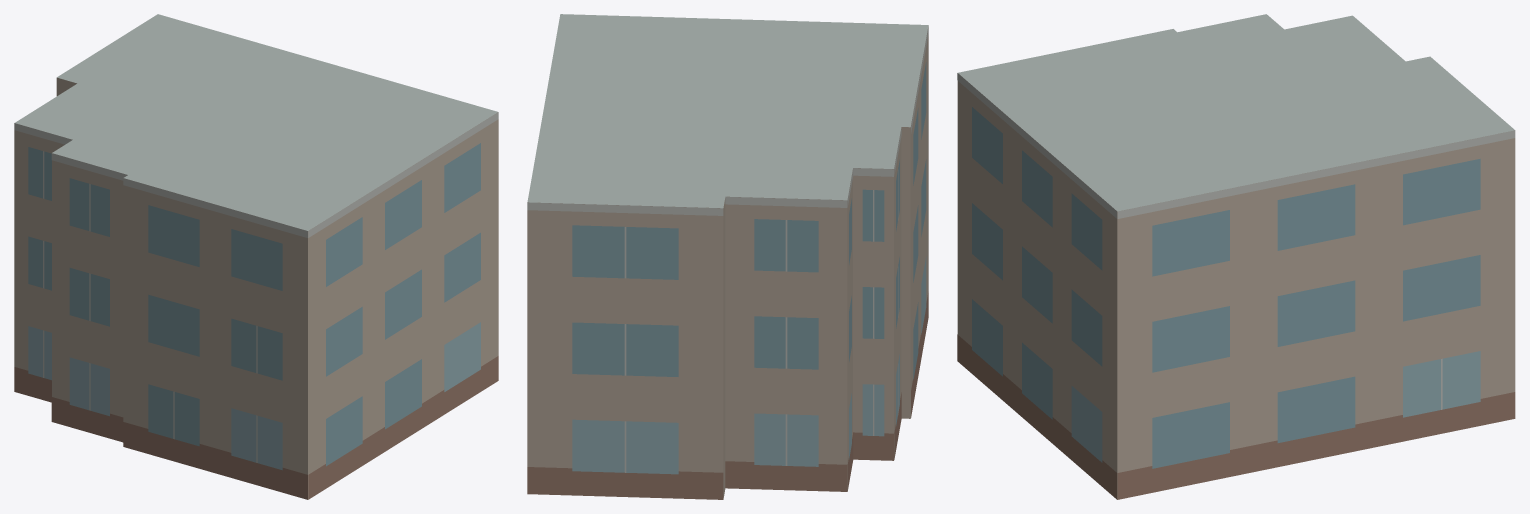
File: survey-upis-33040868.glb
3 views of the same model, side by side, from view 1: azimuth 30°, elevation 25°; view 2: azimuth 150°, elevation 25°; view 3: azimuth 270°, elevation 25° (orthographic). The views are drawn at different scales.
Visible parts, largest first — view 1: survey-upis-33040868.tmp; view 2: survey-upis-33040868.tmp; view 3: survey-upis-33040868.tmp.
Part boxes in pixels (x1=…): survey-upis-33040868.tmp: x1=14, y1=14, x2=498, y2=499; survey-upis-33040868.tmp: x1=527, y1=14, x2=928, y2=499; survey-upis-33040868.tmp: x1=957, y1=14, x2=1515, y2=499.
Size of the model in its own units: 13.45 by 9.15 by 16.05.
